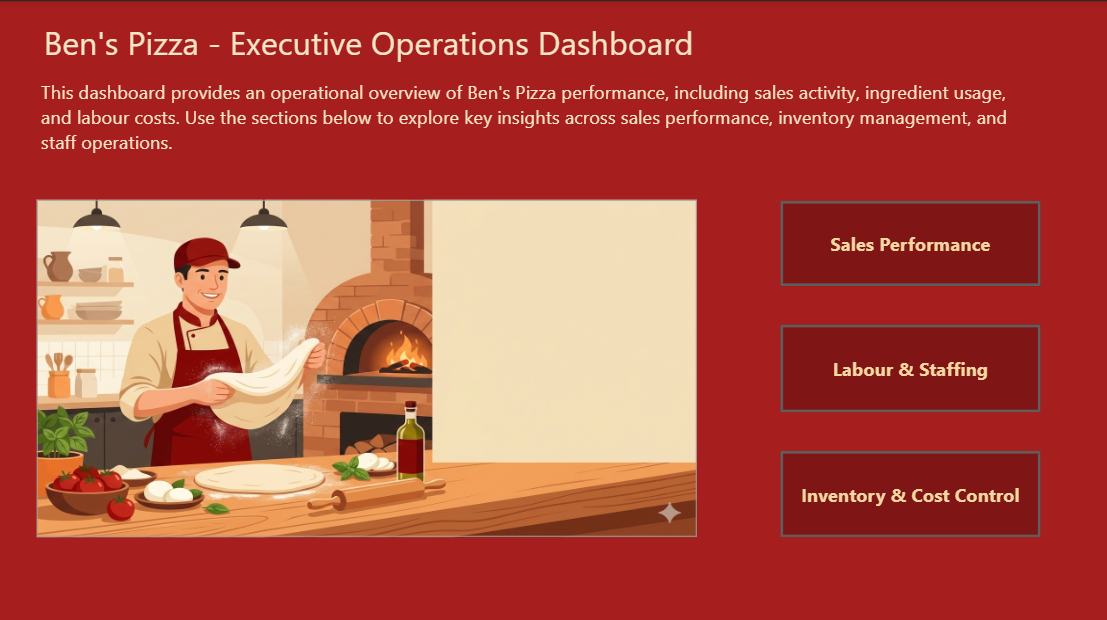

The page's visual inventory and layout, read from the dashboard file:
{"tool":"powerbi","page":{"name":"Home","canvas":[1280,720],"ordinal":0},"visuals":[{"type":"textbox","box":[10.1,17.3,835.4,67.8],"z":0},{"type":"actionButton","title":"Ingredient Usage & Cost Control","box":[903.2,230.8,300.1,98.1],"z":1000},{"type":"actionButton","box":[903.2,519.4,300.1,99.6],"z":2000},{"type":"actionButton","box":[903.2,373.7,300.1,101],"z":3000},{"type":"textbox","box":[44.7,85.1,1158.5,145.7],"z":3001},{"type":"image","box":[44.7,229.4,761.8,389.5],"z":3002}]}

Visuals, with their boxes in screenshot pixels (x1, y1, x2, y2), scaled from the page's 1280x720 canvas onto the 1107x620 screenshot:
textbox: x1=9, y1=15, x2=731, y2=73
"Ingredient Usage & Cost Control" actionButton: x1=781, y1=199, x2=1041, y2=283
actionButton: x1=781, y1=447, x2=1041, y2=533
actionButton: x1=781, y1=322, x2=1041, y2=409
textbox: x1=39, y1=73, x2=1041, y2=199
image: x1=39, y1=198, x2=697, y2=533
